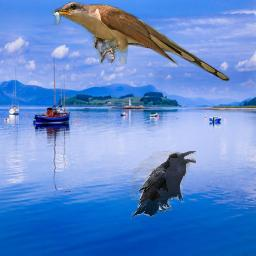Crow: (130, 151, 196, 219)
Cuckoo: (49, 1, 231, 82)
